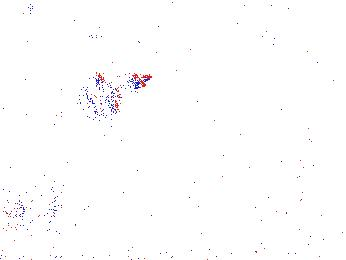flame jellyfish: (75, 71, 151, 125), (2, 172, 66, 226), (266, 154, 322, 213)
